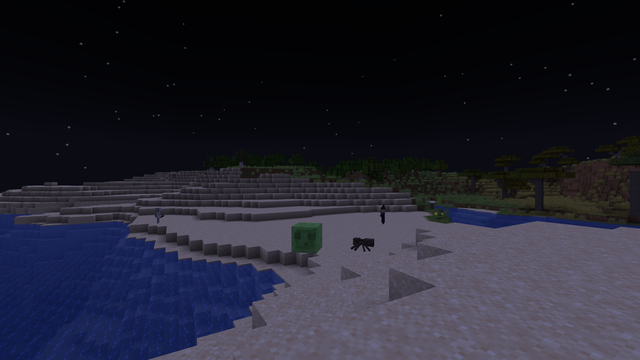araignees: (349, 235, 373, 251)
slimes: (290, 221, 324, 254)
sorcieres: (379, 208, 385, 224)
squelettes: (155, 207, 160, 223)
